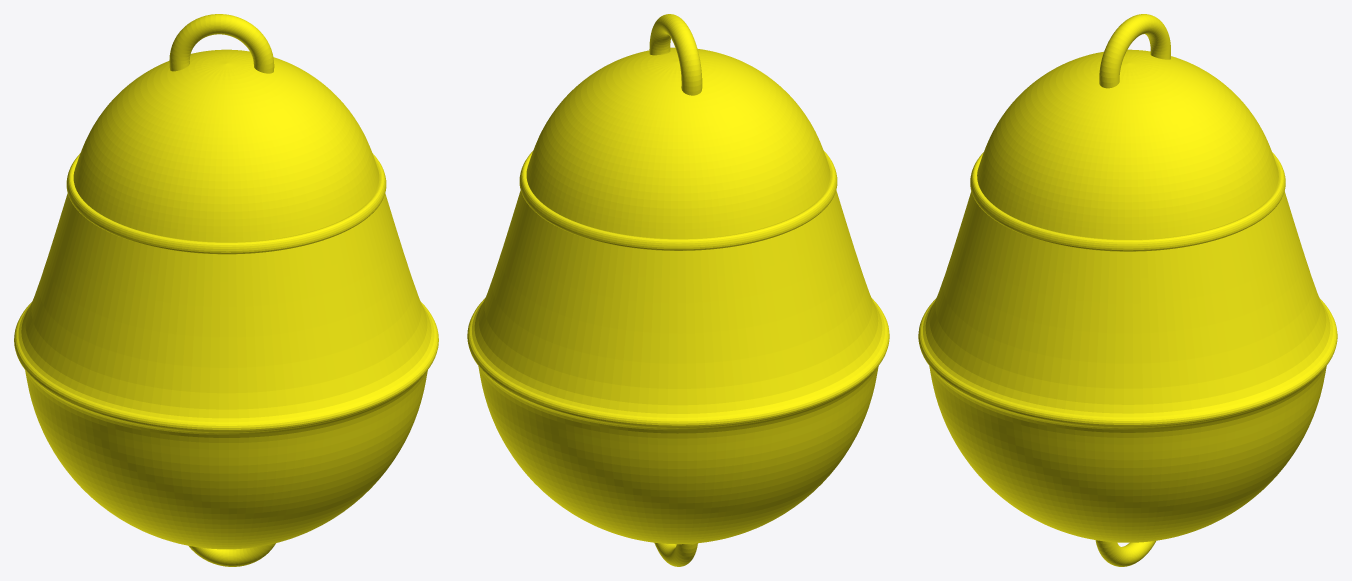
Rendered from buoy.fbx.
The picture shows the model from 3 angles, left to right: view 1: azimuth 30°, elevation 25°; view 2: azimuth 150°, elevation 25°; view 3: azimuth 270°, elevation 25°; orthographic projection.
Visible parts, largest first — view 1: Buoy; view 2: Buoy; view 3: Buoy.
Part boxes in pixels (bbox=[...]): Buoy: bbox=[14, 14, 438, 566]; Buoy: bbox=[467, 14, 889, 566]; Buoy: bbox=[918, 14, 1337, 566].
Bounding box in the file's own units: 763 × 1092 × 763.
